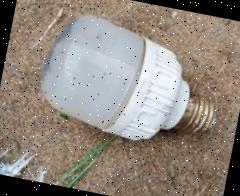lightbulb: (30, 6, 230, 155)
